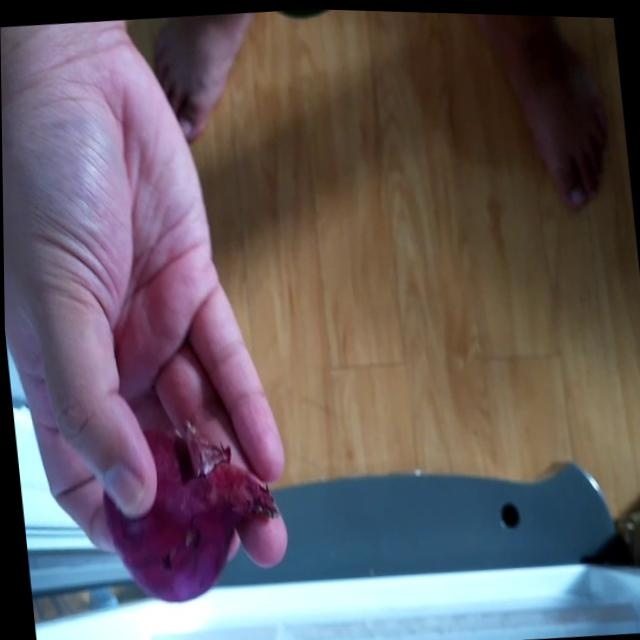onion: (101, 416, 279, 599)
